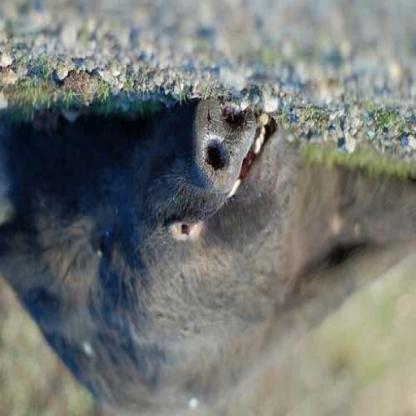boar: (2, 88, 415, 416)
